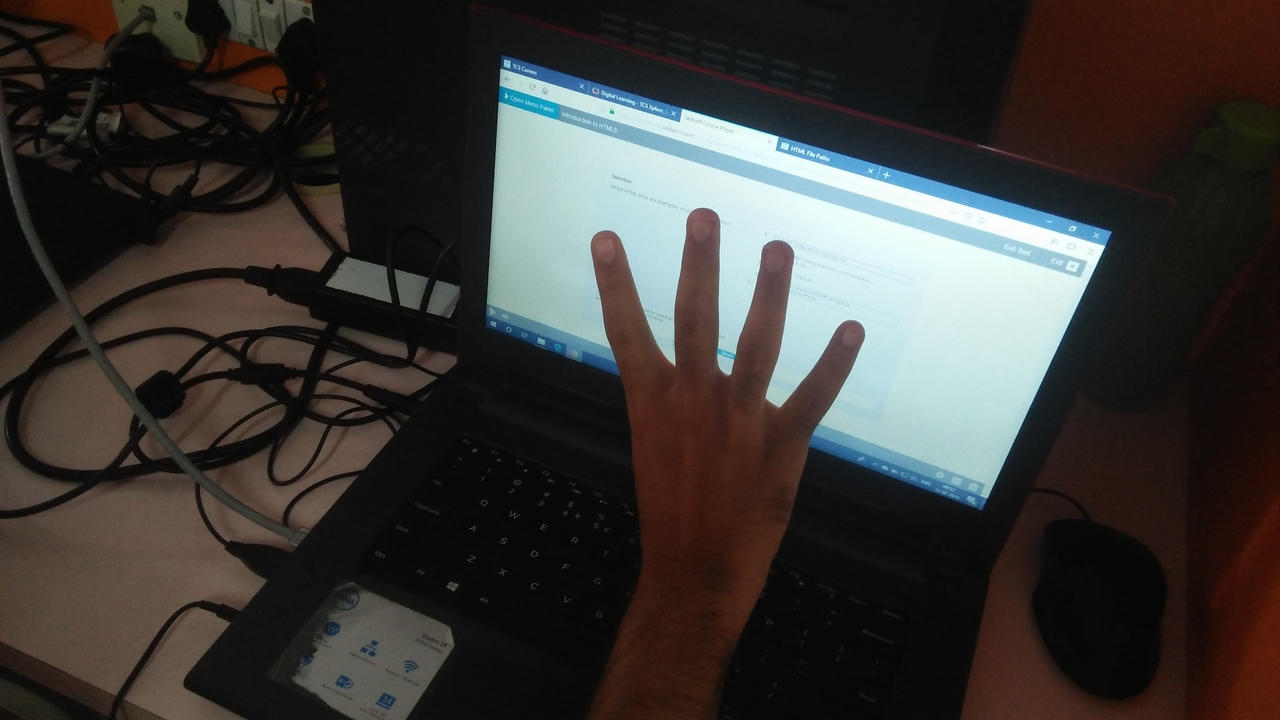fingertip: (582, 220, 636, 266), (676, 200, 730, 246), (822, 314, 876, 358), (752, 232, 802, 274)
